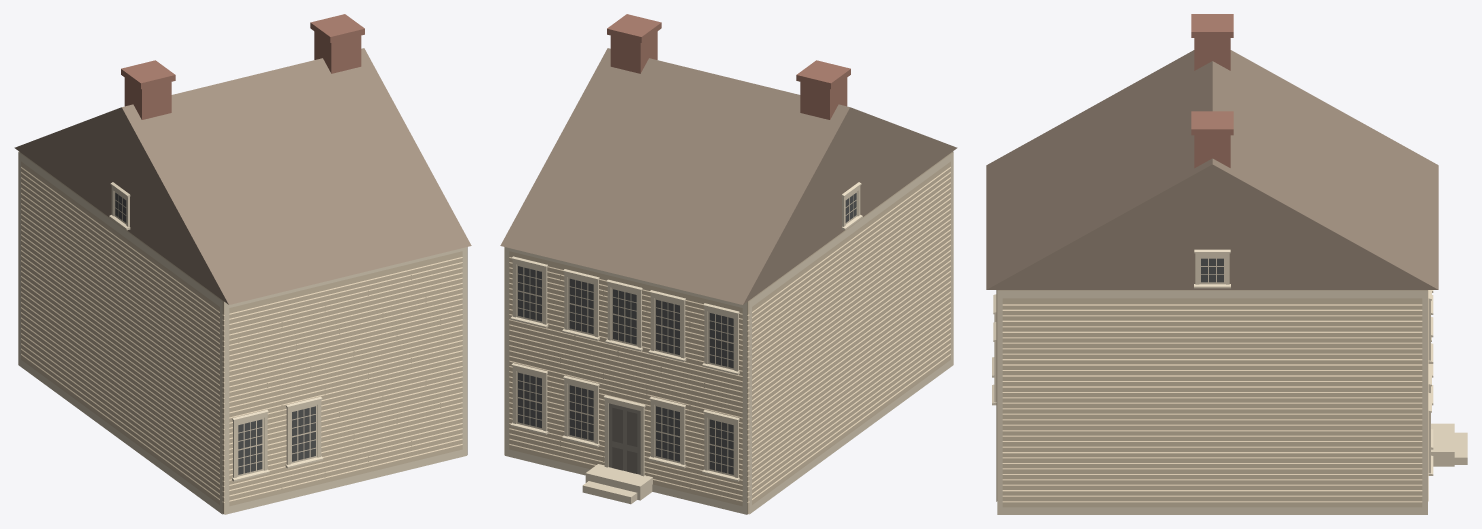
Rendered from recon_1835_blk_washington_wells_d7_01__inferred_1835.glb.
3 views of the same model, side by side, from view 1: azimuth 30°, elevation 25°; view 2: azimuth 150°, elevation 25°; view 3: azimuth 270°, elevation 25° (orthographic). The views are drawn at different scales.
Parts seen in each view (by area): view 1: recon_1835_blk_washington_wells_d7_01__inferred_1835; view 2: recon_1835_blk_washington_wells_d7_01__inferred_1835; view 3: recon_1835_blk_washington_wells_d7_01__inferred_1835.
Part boxes in pixels (x1,y1,x2,y2): recon_1835_blk_washington_wells_d7_01__inferred_1835: [14, 14, 471, 514]; recon_1835_blk_washington_wells_d7_01__inferred_1835: [500, 14, 957, 514]; recon_1835_blk_washington_wells_d7_01__inferred_1835: [986, 14, 1467, 514].
Size of the model in its own units: 7.06 by 9.75 by 11.17.
